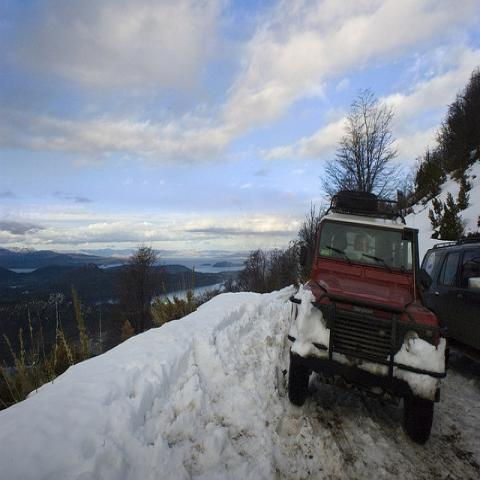car: (420, 236, 478, 362)
truck: (286, 190, 444, 417), (420, 236, 479, 370)
